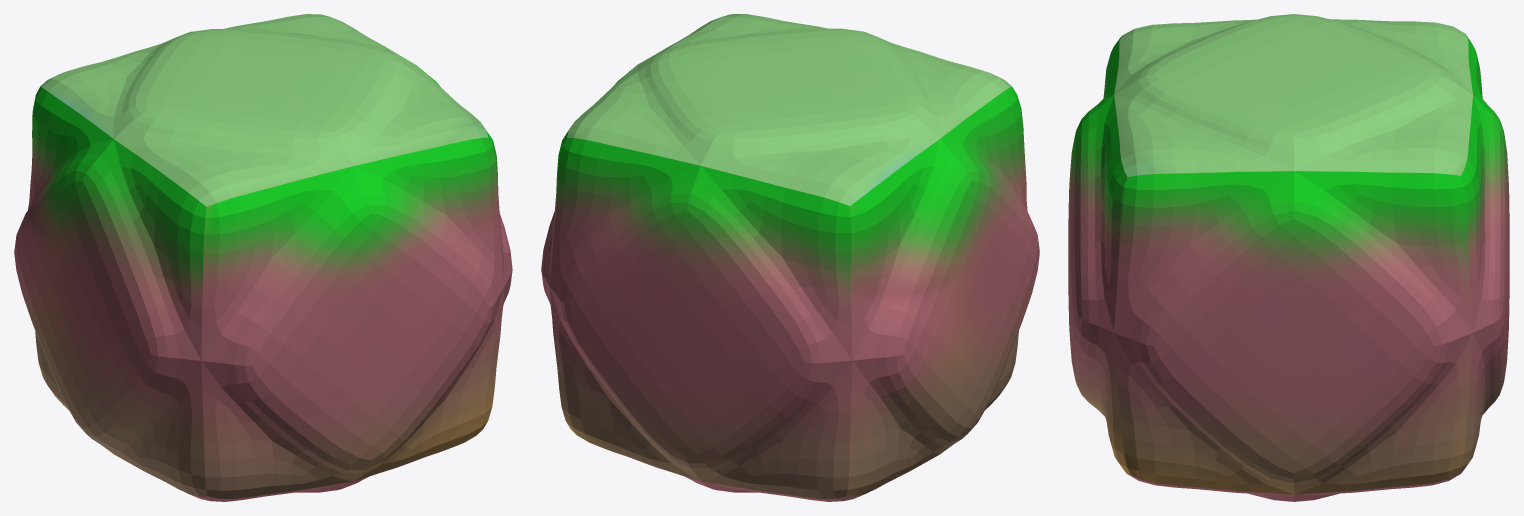
Rendered from Ground2.fbx.
3 renders of one model, left to right at view 1: azimuth 30°, elevation 25°; view 2: azimuth 150°, elevation 25°; view 3: azimuth 270°, elevation 25°, orthographic. The views are drawn at different scales.
Parts seen in each view (by area): view 1: Cube; view 2: Cube; view 3: Cube.
Part boxes in pixels (bbox=[...]): Cube: bbox=[14, 14, 512, 501]; Cube: bbox=[541, 14, 1039, 501]; Cube: bbox=[1068, 14, 1509, 501].
Bounding box in the file's own units: 238 × 222 × 236.
